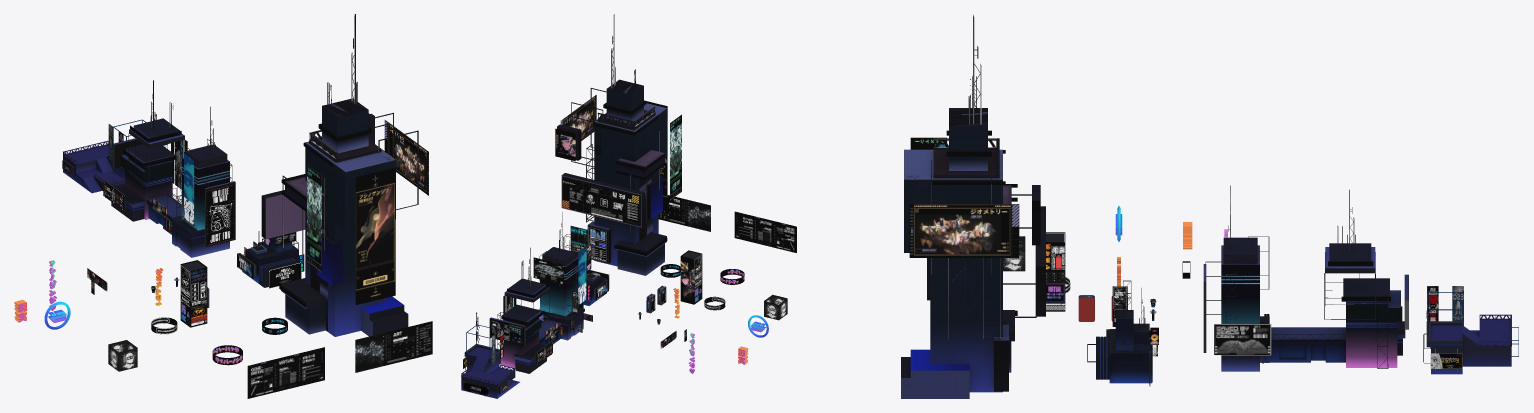
Rendered from cyberfix.glb.
3 views of the same model, side by side, from view 1: azimuth 30°, elevation 25°; view 2: azimuth 150°, elevation 25°; view 3: azimuth 270°, elevation 25° (orthographic). The views are drawn at different scales.
Parts seen in each view (by area): view 1: building_1, billboard_1_screen, building_2, billboard_2_screen, wall_0_screen, wall_1_screen, ramp, tower_screen, building_0, billboard_0_screen, mac_screen_rotate, sega_screen_rotate (+1 smaller); view 2: building_1, billboard_1_screen, building_2, billboard_2_screen, ramp, wall_0_screen, wall_1_screen, tower_screen, billboard_0_screen, ramp_screen, building_0, mac_screen_rotate; view 3: building_1, building_2, billboard_1_screen, ramp, building_0, billboard_2_screen, tower_screen, ramp_screen, billboard_0_screen.
Boxes of the visible parts, box(x1,y1,x2,y2) form: building_1: box(261, 14, 418, 336); billboard_1_screen: box(279, 113, 428, 307); building_2: box(103, 80, 235, 257); billboard_2_screen: box(103, 125, 233, 245); wall_0_screen: box(247, 347, 324, 398); wall_1_screen: box(355, 321, 432, 372); ramp: box(62, 114, 156, 193); tower_screen: box(180, 260, 207, 327); building_0: box(237, 231, 298, 287); billboard_0_screen: box(237, 232, 304, 288); mac_screen_rotate: box(108, 340, 137, 371); sega_screen_rotate: box(212, 345, 242, 365); building_1: box(557, 14, 667, 275); billboard_1_screen: box(555, 95, 681, 261); building_2: box(489, 212, 584, 373); billboard_2_screen: box(490, 246, 592, 364); ramp: box(461, 312, 519, 398); wall_0_screen: box(734, 211, 796, 252); wall_1_screen: box(658, 195, 710, 231); tower_screen: box(680, 250, 702, 304); billboard_0_screen: box(570, 226, 609, 300); ramp_screen: box(463, 328, 508, 396); building_0: box(564, 234, 608, 305); mac_screen_rotate: box(764, 294, 787, 320); building_1: box(901, 14, 1045, 398); building_2: box(1203, 185, 1408, 371); billboard_1_screen: box(909, 130, 1019, 315); ramp: box(1423, 291, 1518, 374); building_0: box(1087, 280, 1152, 386); billboard_2_screen: box(1214, 261, 1390, 355); tower_screen: box(1046, 232, 1065, 311); ramp_screen: box(1427, 286, 1463, 368); billboard_0_screen: box(1112, 286, 1158, 356).
Size of what is drawn, in the model's own units: 160 by 165 by 262.
Materials: 13 (13 with a texture image).
